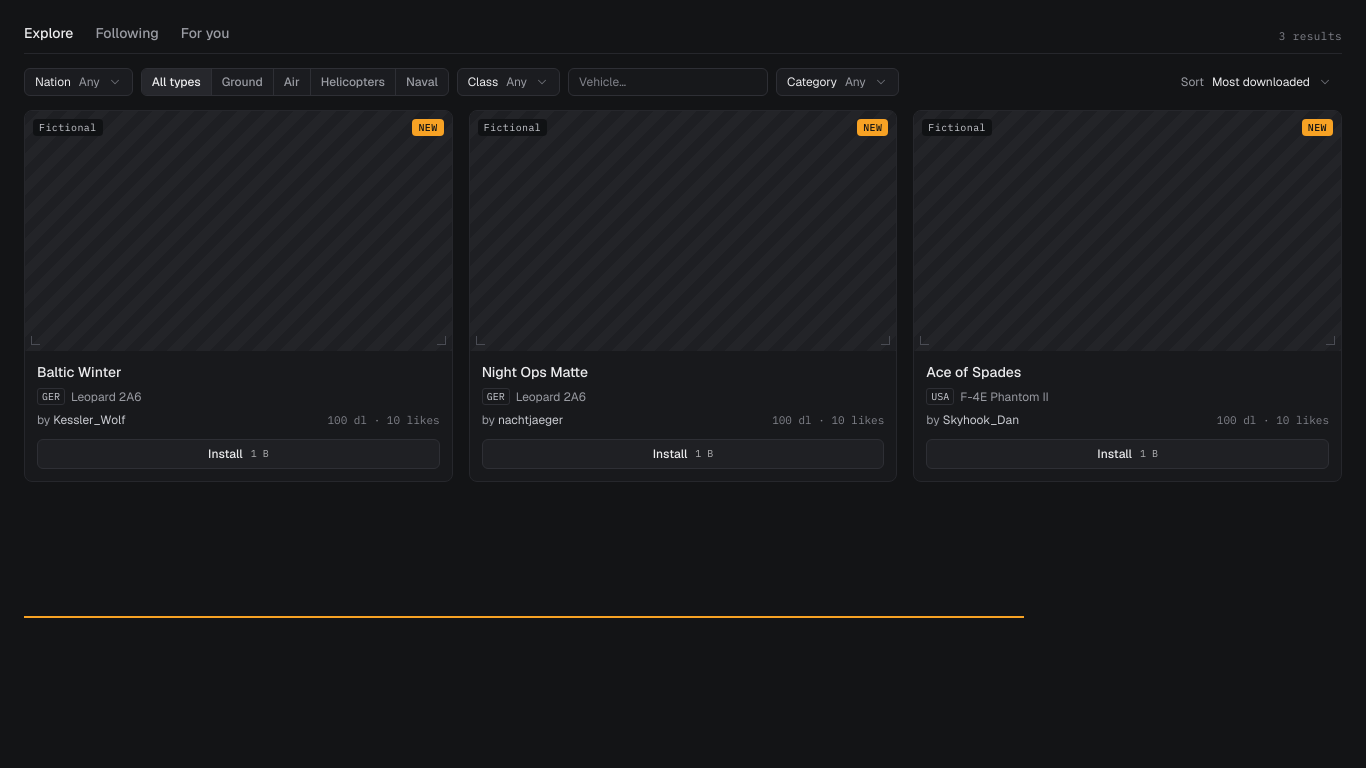
Test case: Following › counts new skins on the tab and per follow
Click the tab "Following": (127, 36) [95, 18, 159, 54]
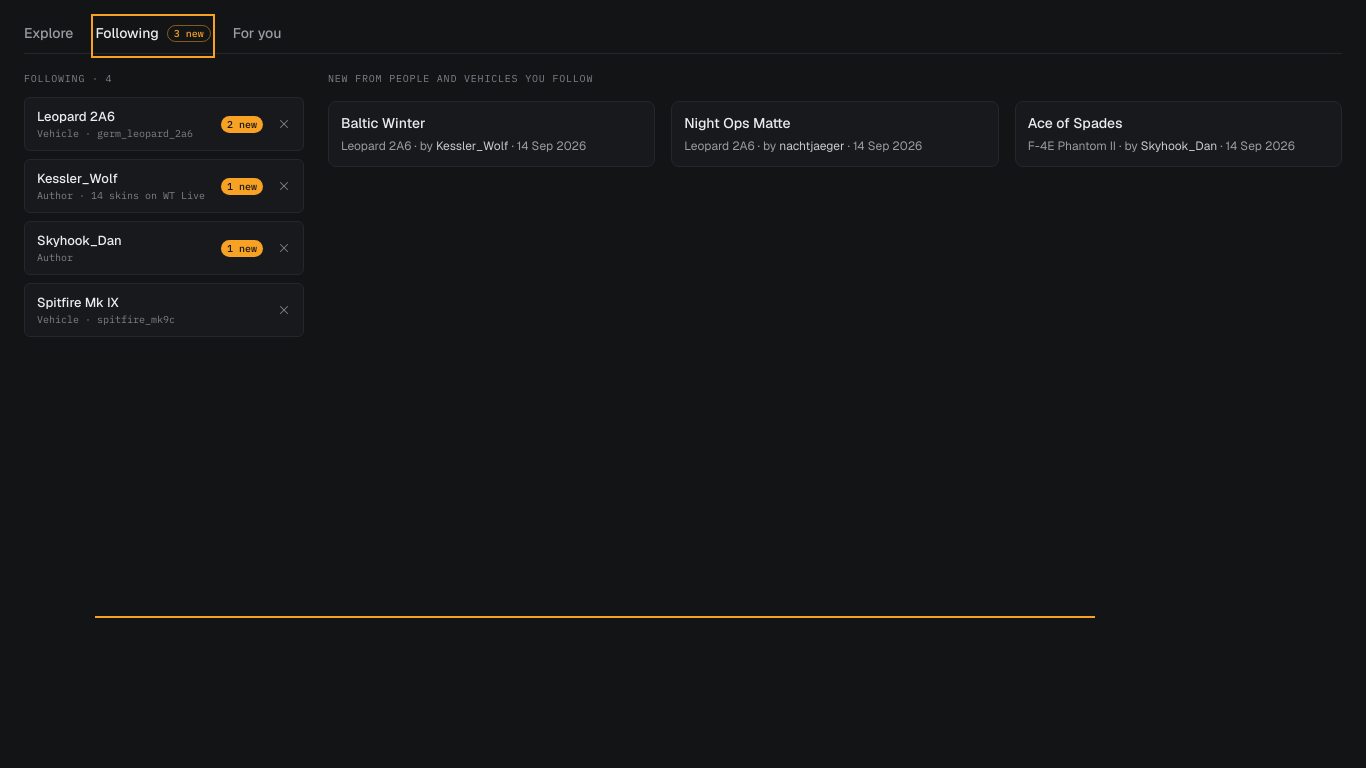
Now the tab "Following 3 new" is shown, box [95, 18, 211, 54]
Now the panel "Following" is shown, box [24, 72, 1342, 337]
Now the heading "Following · 4" is shown, box [24, 72, 112, 85]
